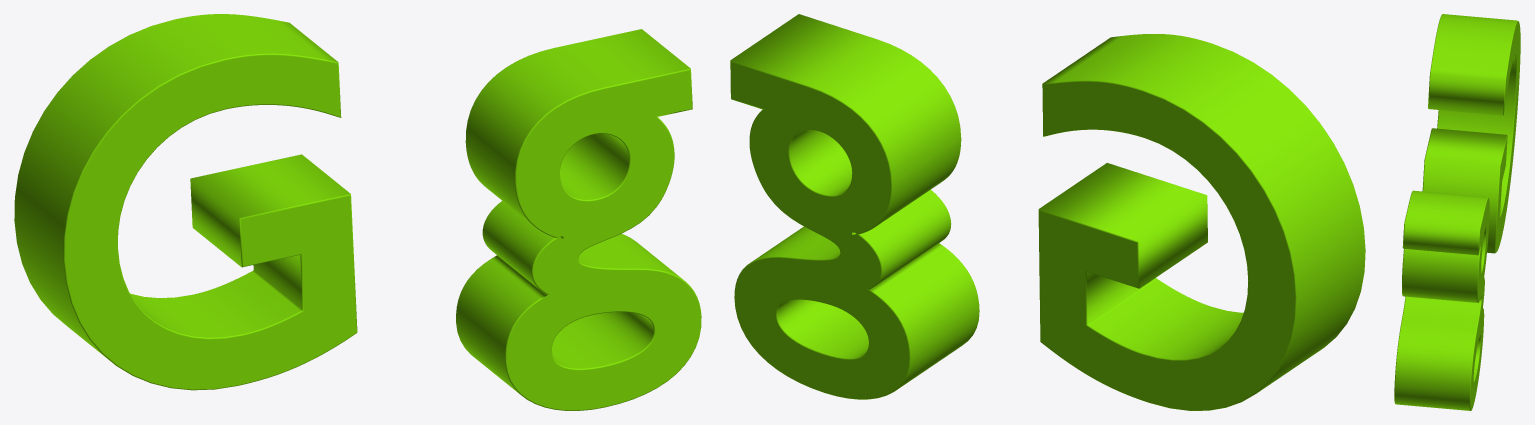
The model's file is ObjectG.fbx.
The picture shows the model from 3 angles, left to right: view 1: azimuth 30°, elevation 25°; view 2: azimuth 150°, elevation 25°; view 3: azimuth 270°, elevation 25°; orthographic projection. The views are drawn at different scales.
Visible parts, largest first — view 1: Text; view 2: Text; view 3: Text.
Boxes of the visible parts, x1,y1,x2,y2 form: Text: [14, 14, 701, 410]; Text: [730, 14, 1365, 410]; Text: [1394, 14, 1520, 410].
Size of the model in its own units: 359 by 235 by 101.
